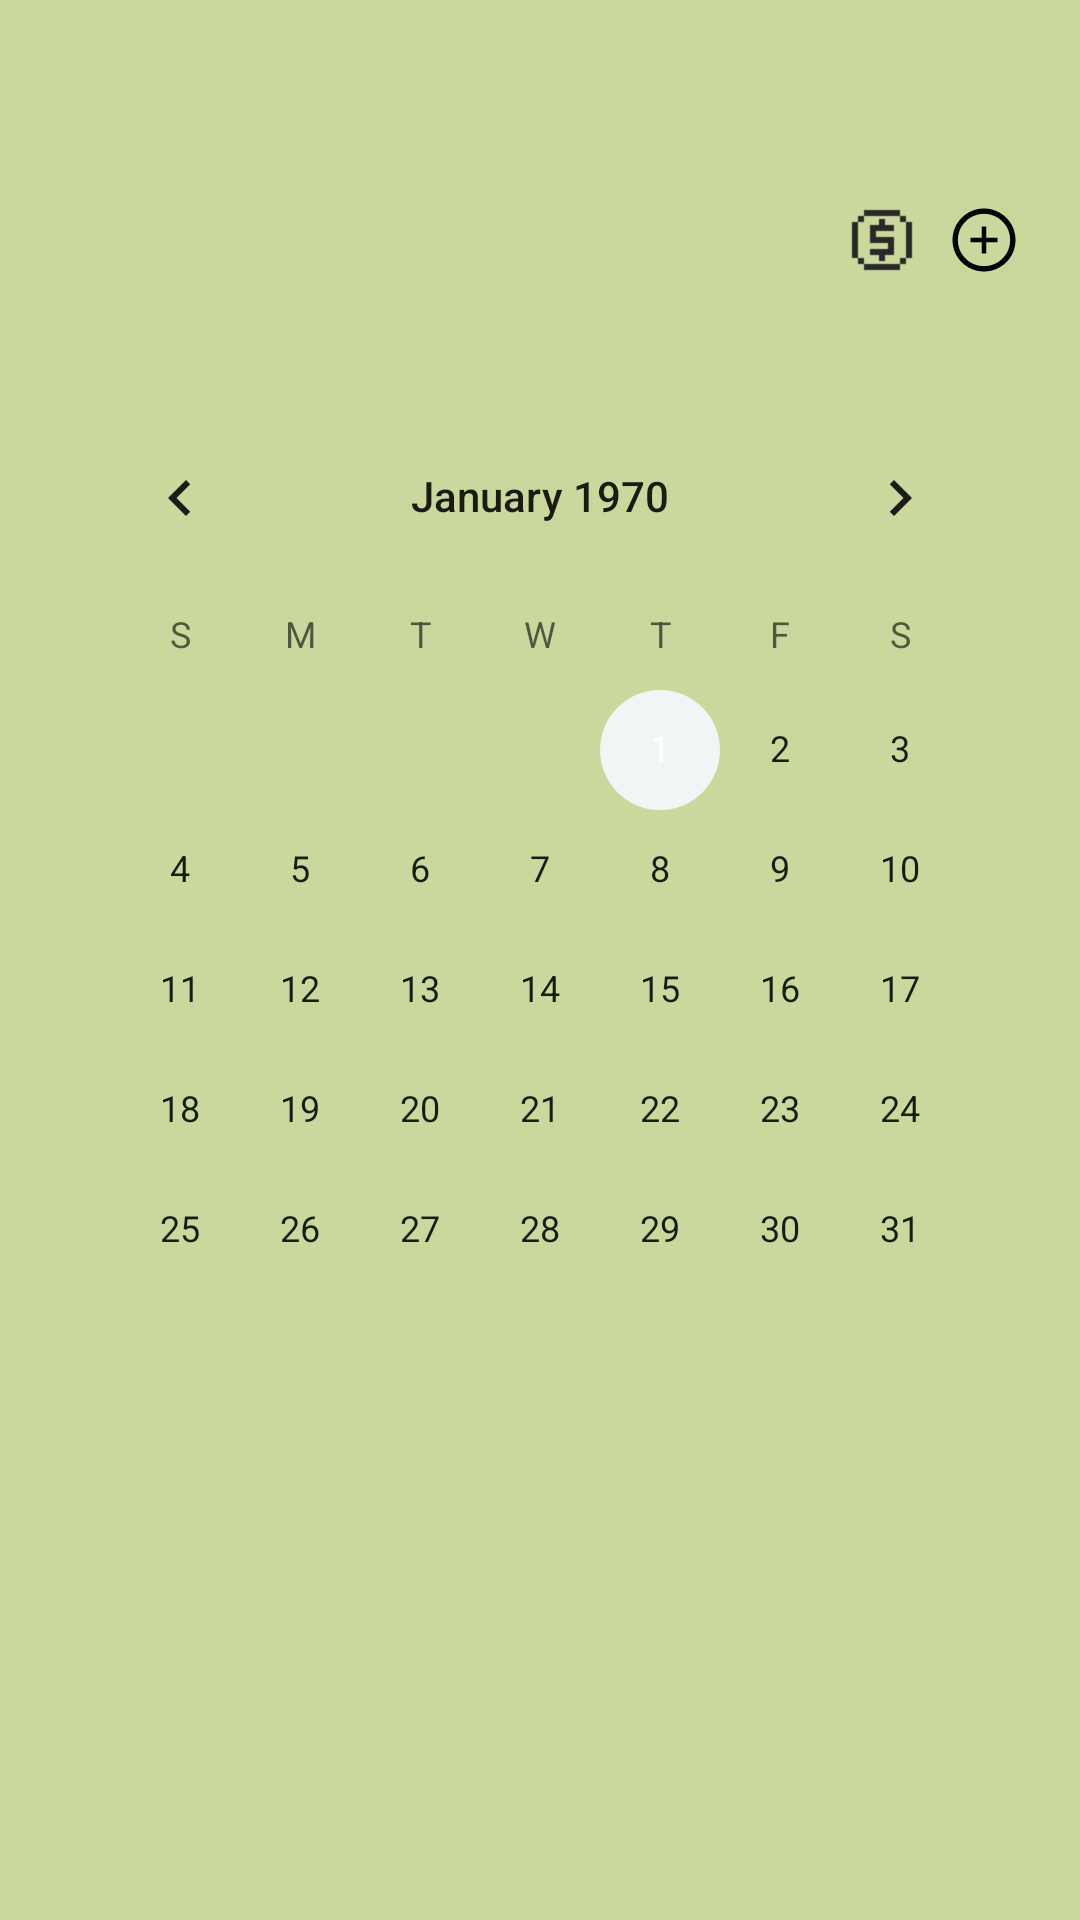

Named icons in this screenshot (1080px x 1920px) and their centers, (x,y):
coin: (882,240)
plus: (984,240)
